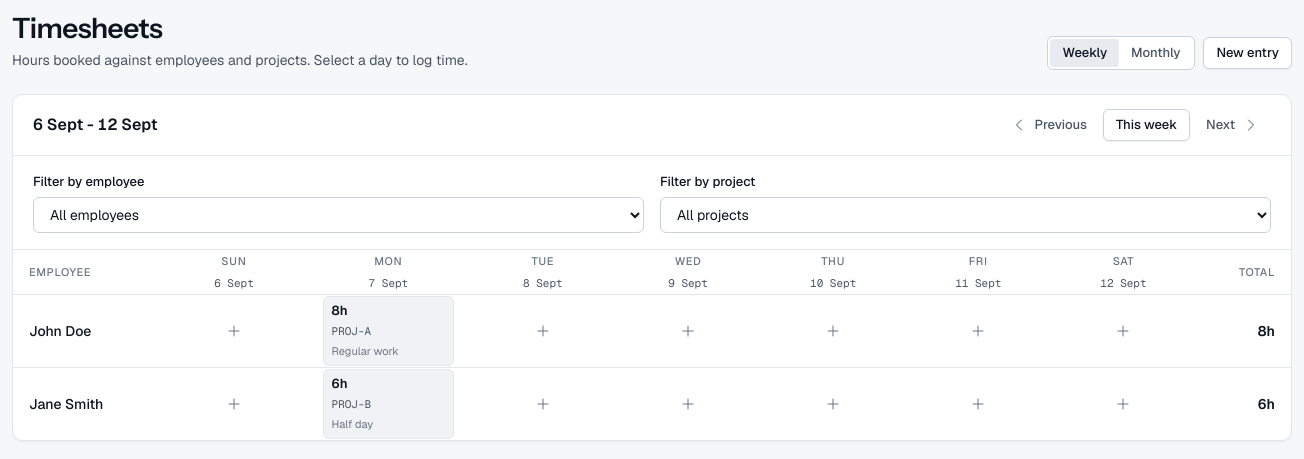
Time/Timesheets Page › should filter timesheets by employee
Select "John Doe" in the dropdown labelled "Filter by employee": [338, 215] box [33,197,644,233]
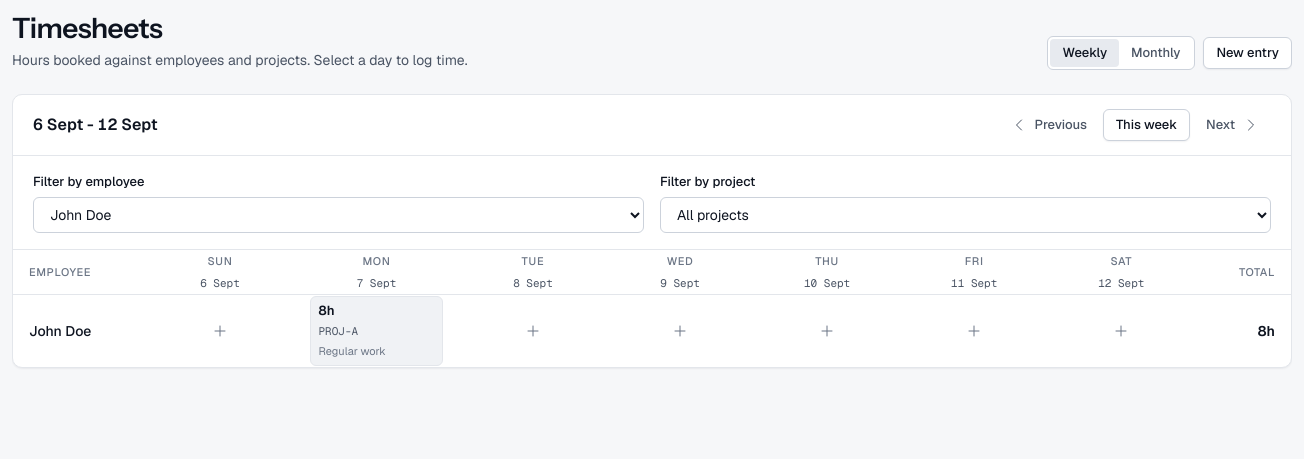
Expected: the text "John Doe" is shown, [13,295,146,367]
Expected: the text "Jane Smith" is gone
